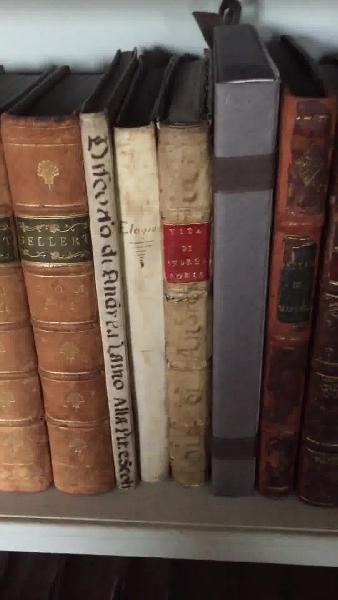Aa6-24: (82, 107, 143, 488)
Aa6-25: (110, 123, 178, 488)
Aa6-26: (157, 121, 227, 490)
Aa6-27: (200, 66, 267, 506)
Aa6-28: (265, 67, 338, 479)
